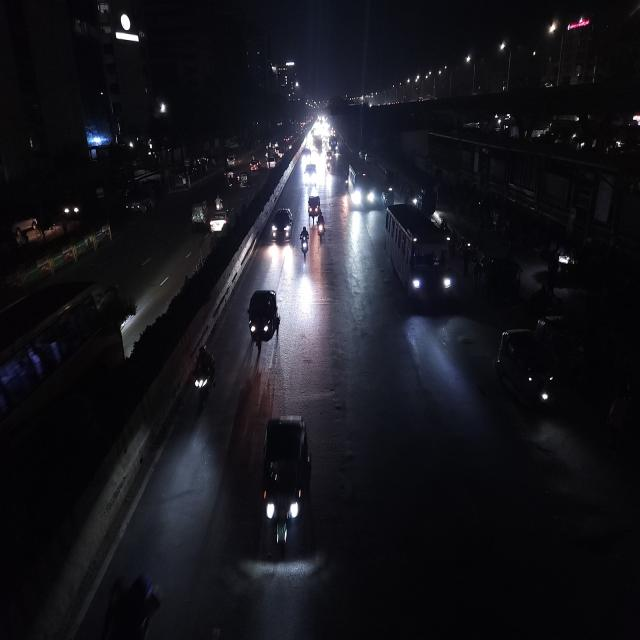bus: (382, 202, 456, 312), (346, 159, 381, 212)
car: (269, 204, 293, 247), (208, 205, 234, 239), (302, 161, 319, 187), (250, 158, 260, 172)
cng: (259, 411, 315, 552), (492, 323, 560, 421), (240, 286, 284, 354), (190, 195, 208, 231), (307, 194, 321, 217), (238, 170, 250, 189)
motorcycle: (190, 342, 219, 413), (315, 213, 328, 244), (299, 223, 310, 259), (214, 192, 227, 212)
